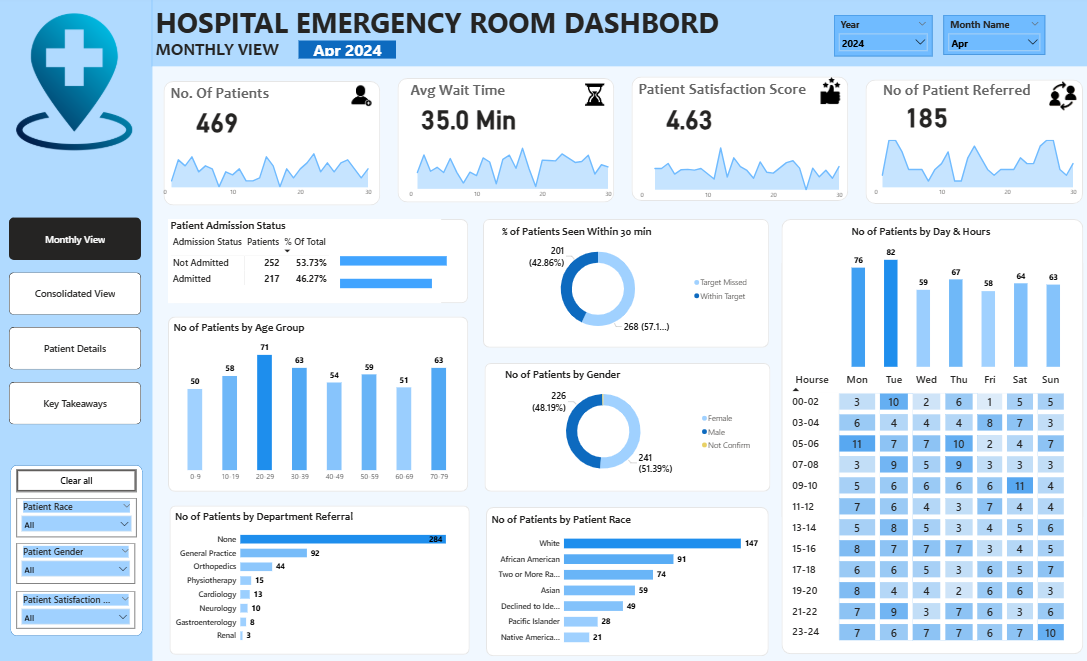

The dashboard page shown, as its layout file describes it:
{"tool":"powerbi","page":{"name":"Monthly View","canvas":[2300,1400],"ordinal":0},"visuals":[{"type":"shape","box":[343.2,170,455,261.3],"z":0},{"type":"shape","box":[0,0,320,1400],"z":1000},{"type":"shape","box":[319.2,0,1979.7,139.2],"z":2000},{"type":"textbox","box":[321.1,0,1212.2,94.5],"z":3000},{"type":"textbox","box":[321.1,75.6,280.2,59.8],"z":4000},{"type":"card","fields":{"Values":["Hospital ER_Data.No of Patients"]},"box":[349.1,191.2,210.9,116.5],"z":5000},{"type":"slicer","fields":{"Values":["Date Table.Year"]},"box":[1750.7,31.1,206.7,86.7],"z":6000},{"type":"slicer","fields":{"Values":["Date Table.Month Name"]},"box":[1980,31.1,213.3,83.3],"z":7000},{"type":"textbox","box":[352.6,170,226.7,59.8],"z":8000},{"type":"shape","box":[20.6,976.7,277.1,358.9],"z":8000,"group":"g1"},{"type":"areaChart","fields":{"Category":["Date Table.Date.Variation.Date Hierarchy.Day"],"Y":["Hospital ER_Data.No of Patients"]},"box":[330.6,283.4,456.5,138.5],"z":9000},{"type":"slicer","fields":{"Values":["Hospital ER_Data.Patient Race"]},"box":[33.2,1046,251.9,81.9],"z":9000,"group":"g1"},{"type":"card","fields":{"Values":["Min(Date Table.Month & Year)"]},"box":[626.6,85,204.7,37.8],"z":10000},{"type":"slicer","fields":{"Values":["Hospital ER_Data.Patient Gender"]},"box":[33.2,1140.4,248.7,85],"z":10000,"group":"g1"},{"type":"shape","box":[834.4,163.2,455,261.3],"z":11000},{"type":"slicer","fields":{"Values":["Hospital ER_Data.Patient Satisfaction Score"]},"box":[33.2,1241.2,248.7,78.7],"z":11000,"group":"g1"},{"type":"card","fields":{"Values":["Hospital ER_Data.Avg Wait Time"]},"box":[879.4,185.4,210,116.7],"z":12000},{"type":"textbox","box":[856.4,163.7,251.9,66.1],"z":13000},{"type":"areaChart","fields":{"Category":["Date Table.Date.Variation.Date Hierarchy.Day"],"Y":["Avg(Hospital ER_Data.Patient Waittime)"]},"box":[846.9,283.4,443.9,141.7],"z":14000},{"type":"shape","box":[1325.5,160.6,455,261.3],"z":15000},{"type":"shape","box":[353.3,458.9,630,177],"z":16000},{"type":"shape","box":[1816.7,166.9,456.5,261.3],"z":17000},{"type":"textbox","box":[1335,160.6,393.6,69.3],"z":18000},{"type":"card","fields":{"Values":["Hospital ER_Data.Satisfaction Score"]},"box":[1341.9,184.9,210.9,116.5],"z":19000},{"type":"areaChart","fields":{"Category":["Date Table.Date.Variation.Date Hierarchy.Day"],"Y":["Hospital ER_Data.Satisfaction Score"]},"box":[1331.8,286.5,443.9,141.7],"z":20000},{"type":"textbox","box":[1848.2,163.7,393.6,69.3],"z":21000},{"type":"areaChart","fields":{"Category":["Date Table.Date.Variation.Date Hierarchy.Day"],"Y":["Hospital ER_Data.No of Petient Referred"]},"box":[1823,280.2,443.9,141.7],"z":22000},{"type":"card","fields":{"Values":["Hospital ER_Data.No of Petient Referred"]},"box":[1838.3,181.7,210.9,116.5],"z":23000},{"type":"pivotTable","title":"Patient Admission Status","fields":{"Rows":["Hospital ER_Data.Admission Status"],"Values":["Hospital ER_Data.No of Patients1","Hospital ER_Data.No of Patients"]},"box":[354,460.5,573.3,176.7],"z":24000},{"type":"barChart","fields":{"Category":["Hospital ER_Data.Admission Status"],"Y":["Hospital ER_Data.No of Patients"]},"box":[707.3,500.5,276.7,136.7],"z":25000},{"type":"shape","box":[353.3,664.2,630,368],"z":26000},{"type":"clusteredColumnChart","fields":{"Category":["Hospital ER_Data.Age Group"],"Y":["Hospital ER_Data.No of Patients"]},"box":[360,673.3,613.3,346.7],"z":27000},{"type":"shape","box":[356.7,1060,630,313.3],"z":28000},{"type":"clusteredBarChart","fields":{"Category":["Hospital ER_Data.Department Referral"],"Y":["Hospital ER_Data.No of Patients"]},"box":[363.3,1070,613.3,290],"z":29000},{"type":"shape","box":[1013.3,460,600,270],"z":30000},{"type":"donutChart","title":"% of Patients Seen Within 30 min ","fields":{"Category":["Hospital ER_Data.Waittime Status"],"Y":["Hospital ER_Data.No of Patients"]},"box":[1050,473.3,533.3,240],"z":31000},{"type":"shape","box":[1016.8,761.2,600,270],"z":32000},{"type":"donutChart","title":"No of Patients by Gender","fields":{"Y":["Hospital ER_Data.No of Patients"],"Category":["Hospital ER_Data.Patient Gender"]},"box":[1053.3,772.9,533.3,240],"z":33000},{"type":"shape","box":[1020,1063.3,593.3,313.3],"z":34000},{"type":"clusteredBarChart","fields":{"Y":["Hospital ER_Data.No of Patients"],"Category":["Hospital ER_Data.Patient Race"]},"box":[1026.7,1076.7,576.7,290],"z":35000},{"type":"shape","box":[1640,460,633.3,913.3],"z":36000},{"type":"pivotTable","fields":{"Rows":["Hospital ER_Data.Waittime Interval"],"Columns":["Date Table.Day Name"],"Values":["Hospital ER_Data.No of Patients"]},"box":[1653.3,773.3,606.7,586.7],"z":37000},{"type":"columnChart","title":"No of Patients by Day & Hours","fields":{"Category":["Date Table.Day Name"],"Y":["Hospital ER_Data.No of Patients"]},"box":[1783.3,473.3,450,303.3],"z":38000},{"type":"image","box":[717.9,170,81.9,59.8],"z":39000},{"type":"image","box":[1221.6,170,53.5,56.7],"z":40000},{"type":"image","box":[1709.6,151.1,66.1,78.7],"z":41000},{"type":"image","box":[2191.4,157.4,78.7,88.2],"z":42000},{"type":"image","box":[6.3,22,299.1,299.1],"z":43000},{"type":"pageNavigator","box":[18.9,456.5,277.1,434.5],"z":44000},{"type":"group","id":"g1","title":"Group 1","box":[20.6,976.7,277.1,358.9],"z":44001,"group":"g2"},{"type":"actionButton","box":[34.7,985.5,251.9,47.2],"z":44002,"group":"g2"},{"type":"group","id":"g2","title":"Group 2","box":[20.6,976.7,277.1,358.9],"z":44003}]}

Visuals, with their boxes in screenshot pixels (x1, y1, x2, y2), scaled from the page's 2300x1400 canvas onto the 1087x661 screenshot:
shape: BBox(162, 80, 377, 204)
shape: BBox(0, 0, 151, 660)
shape: BBox(151, 0, 1086, 66)
textbox: BBox(152, 0, 725, 45)
textbox: BBox(152, 36, 284, 64)
card - Hospital ER_Data.No of Patients: BBox(165, 90, 265, 145)
slicer - Date Table.Year: BBox(827, 15, 925, 56)
slicer - Date Table.Month Name: BBox(936, 15, 1037, 54)
textbox: BBox(167, 80, 274, 108)
shape: BBox(10, 461, 141, 631)
areaChart - Date Table.Date.Variation.Date Hierarchy.Day x Hospital ER_Data.No of Patients: BBox(156, 134, 372, 199)
slicer - Hospital ER_Data.Patient Race: BBox(16, 494, 135, 533)
card - Min(Date Table.Month & Year): BBox(296, 40, 393, 58)
slicer - Hospital ER_Data.Patient Gender: BBox(16, 538, 133, 579)
shape: BBox(394, 77, 609, 200)
slicer - Hospital ER_Data.Patient Satisfaction Score: BBox(16, 586, 133, 623)
card - Hospital ER_Data.Avg Wait Time: BBox(416, 88, 515, 143)
textbox: BBox(405, 77, 524, 108)
areaChart - Date Table.Date.Variation.Date Hierarchy.Day x Avg(Hospital ER_Data.Patient Waittime): BBox(400, 134, 610, 201)
shape: BBox(626, 76, 841, 199)
shape: BBox(167, 217, 465, 300)
shape: BBox(859, 79, 1074, 202)
textbox: BBox(631, 76, 817, 109)
card - Hospital ER_Data.Satisfaction Score: BBox(634, 87, 734, 142)
areaChart - Date Table.Date.Variation.Date Hierarchy.Day x Hospital ER_Data.Satisfaction Score: BBox(629, 135, 839, 202)
textbox: BBox(873, 77, 1059, 110)
areaChart - Date Table.Date.Variation.Date Hierarchy.Day x Hospital ER_Data.No of Petient Referred: BBox(862, 132, 1071, 199)
card - Hospital ER_Data.No of Petient Referred: BBox(869, 86, 968, 141)
"Patient Admission Status" pivotTable: BBox(167, 217, 438, 301)
barChart - Hospital ER_Data.Admission Status x Hospital ER_Data.No of Patients: BBox(334, 236, 465, 301)
shape: BBox(167, 314, 465, 487)
clusteredColumnChart - Hospital ER_Data.Age Group x Hospital ER_Data.No of Patients: BBox(170, 318, 460, 482)
shape: BBox(169, 500, 466, 648)
clusteredBarChart - Hospital ER_Data.Department Referral x Hospital ER_Data.No of Patients: BBox(172, 505, 462, 642)
shape: BBox(479, 217, 762, 345)
"% of Patients Seen Within 30 min " donutChart: BBox(496, 223, 748, 337)
shape: BBox(481, 359, 764, 487)
"No of Patients by Gender" donutChart: BBox(498, 365, 750, 478)
shape: BBox(482, 502, 762, 650)
clusteredBarChart - Hospital ER_Data.No of Patients x Hospital ER_Data.Patient Race: BBox(485, 508, 758, 645)
shape: BBox(775, 217, 1074, 648)
pivotTable - Hospital ER_Data.Waittime Interval x Date Table.Day Name: BBox(781, 365, 1068, 642)
"No of Patients by Day & Hours" columnChart: BBox(843, 223, 1055, 367)
image: BBox(339, 80, 378, 108)
image: BBox(577, 80, 603, 107)
image: BBox(808, 71, 839, 108)
image: BBox(1036, 74, 1073, 116)
image: BBox(3, 10, 144, 152)
pageNavigator: BBox(9, 216, 140, 421)
"Group 1" group: BBox(10, 461, 141, 631)
actionButton: BBox(16, 465, 135, 488)
"Group 2" group: BBox(10, 461, 141, 631)
